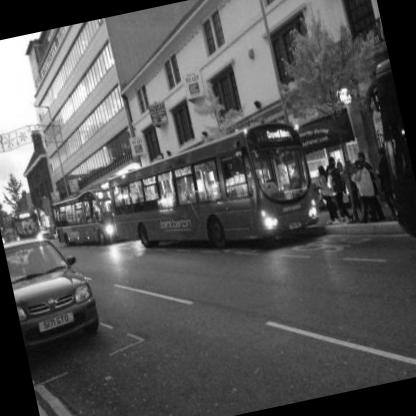bus: (110, 125, 326, 275), (46, 192, 124, 250)
car: (3, 222, 110, 355)
